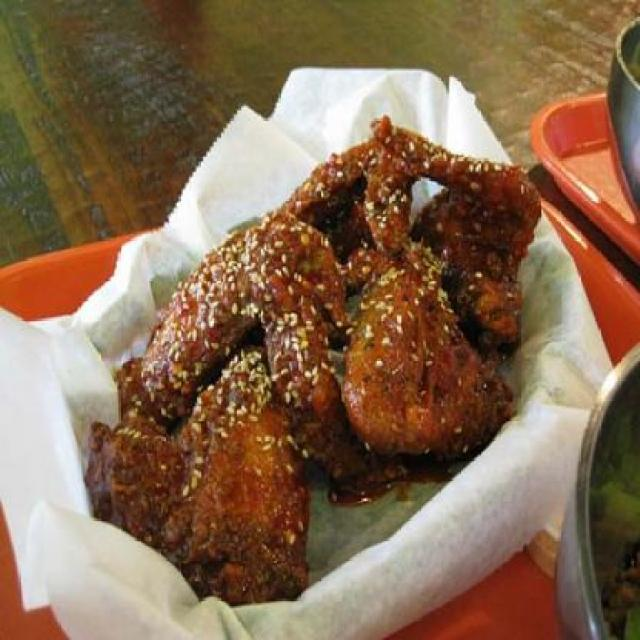Deep fried chicken wing: (103, 129, 534, 562)
